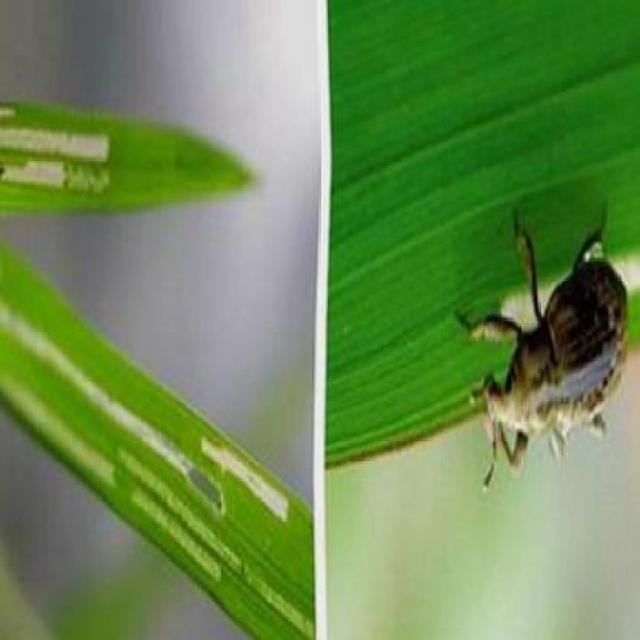rice-bug: (469, 232, 633, 486)
